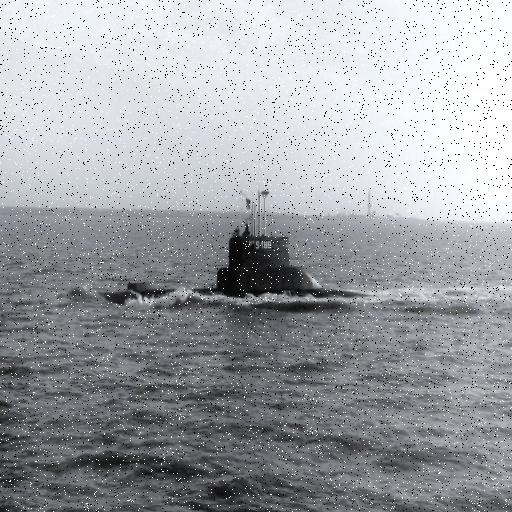submarine: (100, 184, 376, 308)
